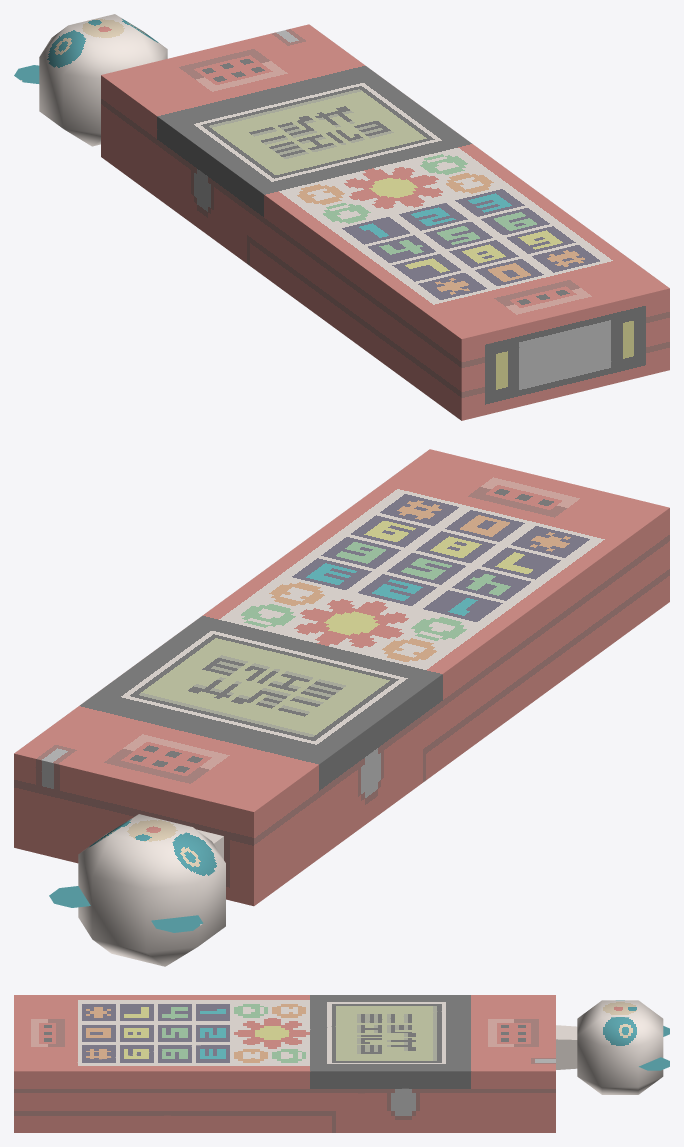
The model's file is 000c_Girly_Cellphone.glb.
The picture shows the model from 3 angles, top to bottom: view 1: azimuth 30°, elevation 25°; view 2: azimuth 150°, elevation 25°; view 3: azimuth 270°, elevation 25°; orthographic projection. The views are drawn at different scales.
Visible parts, largest first — view 1: part_0; view 2: part_0; view 3: part_0.
Boxes of the visible parts, x1,y1,x2,y2 form: part_0: (14, 14, 669, 420); part_0: (14, 449, 669, 966); part_0: (14, 995, 669, 1132).
Bounding box in the file's own units: 0.0433 × 0.019 × 0.1453.
1 material, 1 textured.
